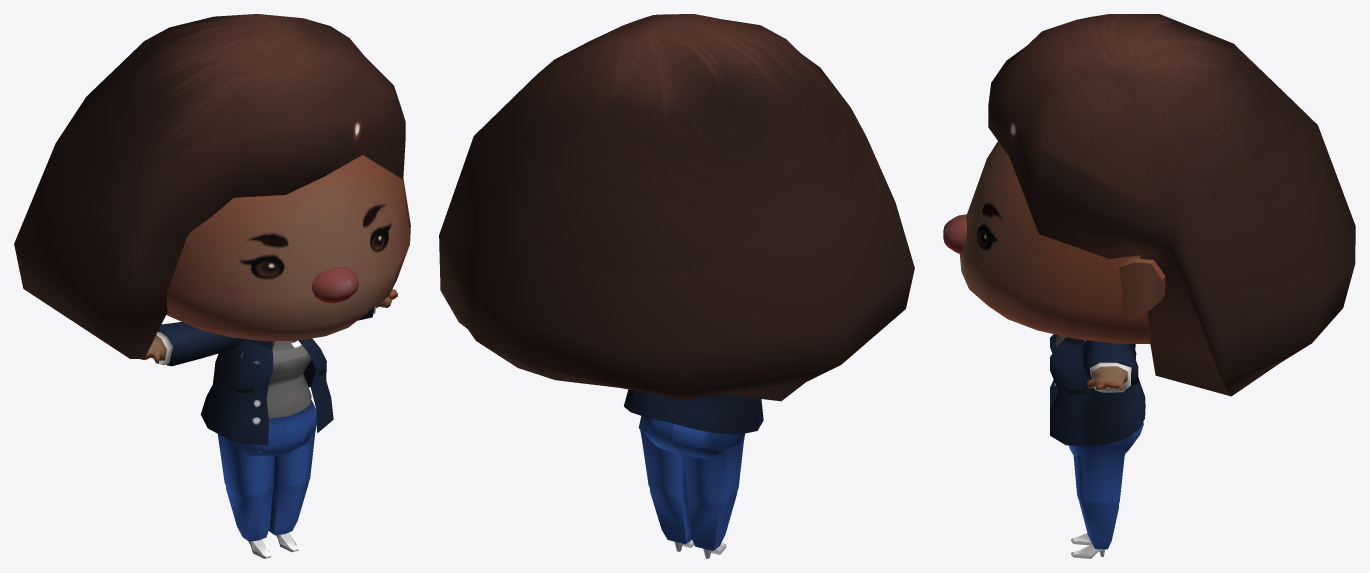
The model's file is Char_Tran_Ser_01.fbx.
3 views of the same model, side by side, from view 1: azimuth 30°, elevation 25°; view 2: azimuth 150°, elevation 25°; view 3: azimuth 270°, elevation 25° (orthographic). The views are drawn at different scales.
Parts seen in each view (by area): view 1: Hair_Bus_Driver, Head_Bus_Driver, Jacket_Bus_Driver, R_Leg_Bus_Driver, L_Leg_Bus_Driver, Body_Bus_Driver, R_Arm_Bus_Driver, Butt_Bus_Driver, Nose_Bus_Driver; view 2: Hair_Bus_Driver, R_Leg_Bus_Driver, Jacket_Bus_Driver, L_Leg_Bus_Driver, Butt_Bus_Driver; view 3: Hair_Bus_Driver, Head_Bus_Driver, Jacket_Bus_Driver, L_Leg_Bus_Driver, L_Arm_Bus_Driver, L_Ear_Bus_Driver, Nose_Bus_Driver, Butt_Bus_Driver.
Boxes of the visible parts, <box> form: Hair_Bus_Driver: <box>14,14,405,359</box>; Head_Bus_Driver: <box>166,155,410,341</box>; Jacket_Bus_Driver: <box>200,338,333,445</box>; R_Leg_Bus_Driver: <box>217,434,275,558</box>; L_Leg_Bus_Driver: <box>268,424,316,552</box>; Body_Bus_Driver: <box>240,340,311,418</box>; R_Arm_Bus_Driver: <box>141,322,242,366</box>; Butt_Bus_Driver: <box>218,399,316,456</box>; Nose_Bus_Driver: <box>311,266,358,302</box>; Hair_Bus_Driver: <box>439,14,914,401</box>; R_Leg_Bus_Driver: <box>683,434,744,558</box>; Jacket_Bus_Driver: <box>624,389,763,434</box>; L_Leg_Bus_Driver: <box>640,430,693,551</box>; Butt_Bus_Driver: <box>638,416,744,458</box>; Hair_Bus_Driver: <box>988,14,1355,396</box>; Head_Bus_Driver: <box>959,141,1150,343</box>; Jacket_Bus_Driver: <box>1050,334,1145,445</box>; L_Leg_Bus_Driver: <box>1071,446,1126,558</box>; L_Arm_Bus_Driver: <box>1082,340,1138,392</box>; L_Ear_Bus_Driver: <box>1119,258,1165,320</box>; Nose_Bus_Driver: <box>943,214,966,253</box>; Butt_Bus_Driver: <box>1068,422,1143,455</box>.
Size of the model in its own units: 5.74 by 7.3 by 5.33.
